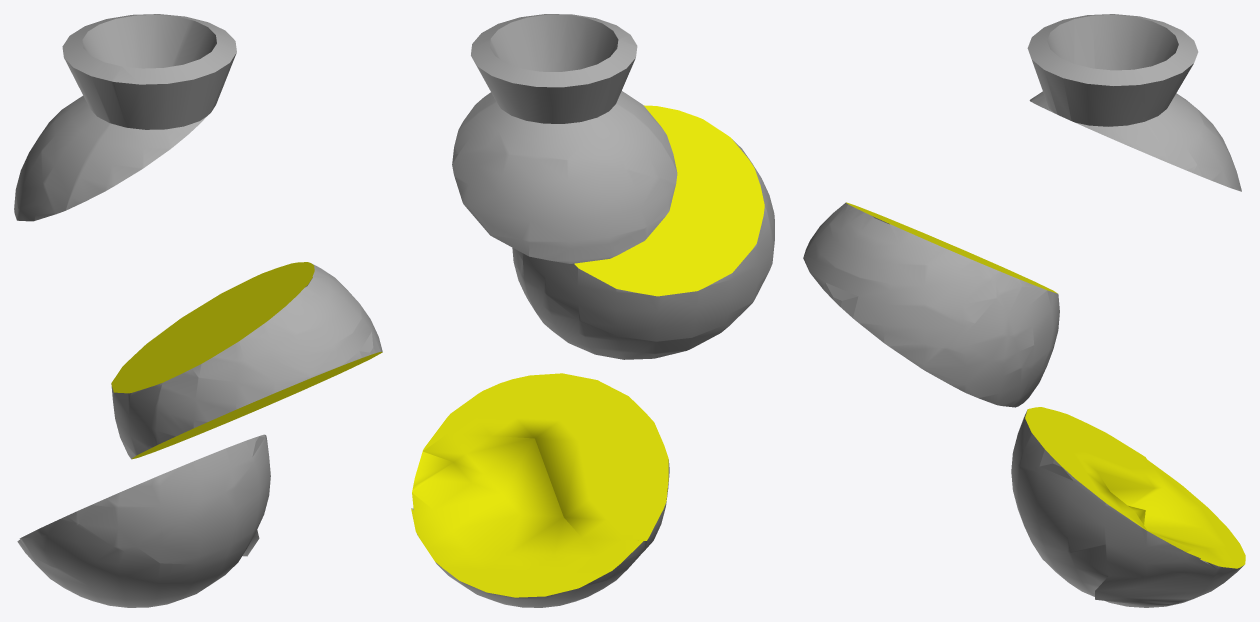
The model's file is tubo kowareta.fbx.
The picture shows the model from 3 angles, left to right: view 1: azimuth 30°, elevation 25°; view 2: azimuth 150°, elevation 25°; view 3: azimuth 270°, elevation 25°; orthographic projection. The views are drawn at different scales.
Parts seen in each view (by area): view 1: shard4, shard2, shard6; view 2: shard6, shard2, shard4; view 3: shard6, shard4, shard2.
Part boxes in pixels (x1,y1,x2,y2): shard4: (111,262,382,459); shard2: (14,14,236,221); shard6: (17,434,270,607); shard6: (411,373,669,607); shard2: (452,14,677,263); shard4: (512,105,774,359); shard6: (1011,407,1245,607); shard4: (803,202,1059,407); shard2: (1027,14,1241,191).
Bounding box in the file's own units: 6.14 × 13.83 × 10.03.
